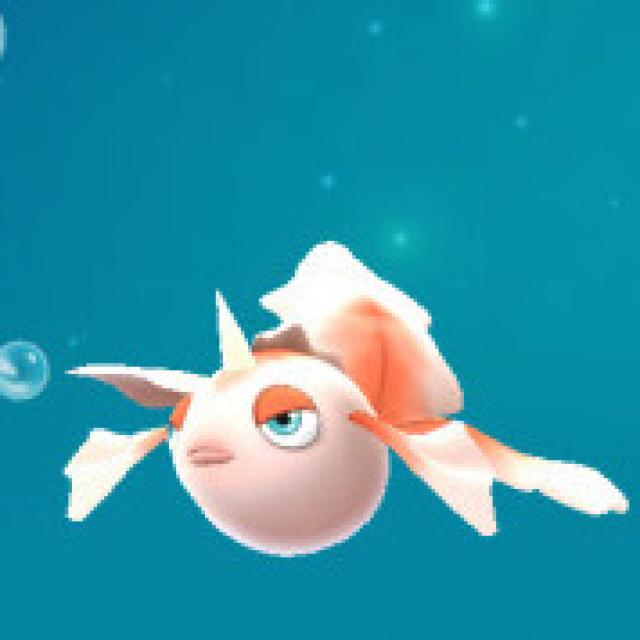Goldeen: (81, 250, 496, 551)
